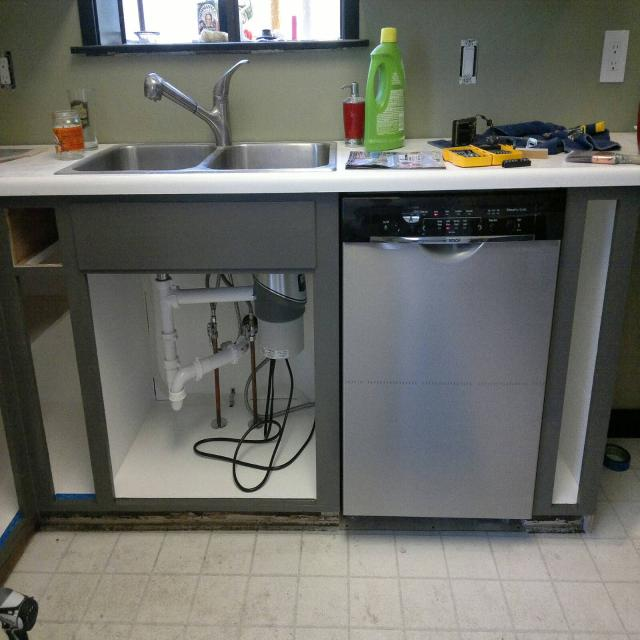dishwasher: (336, 191, 567, 531)
